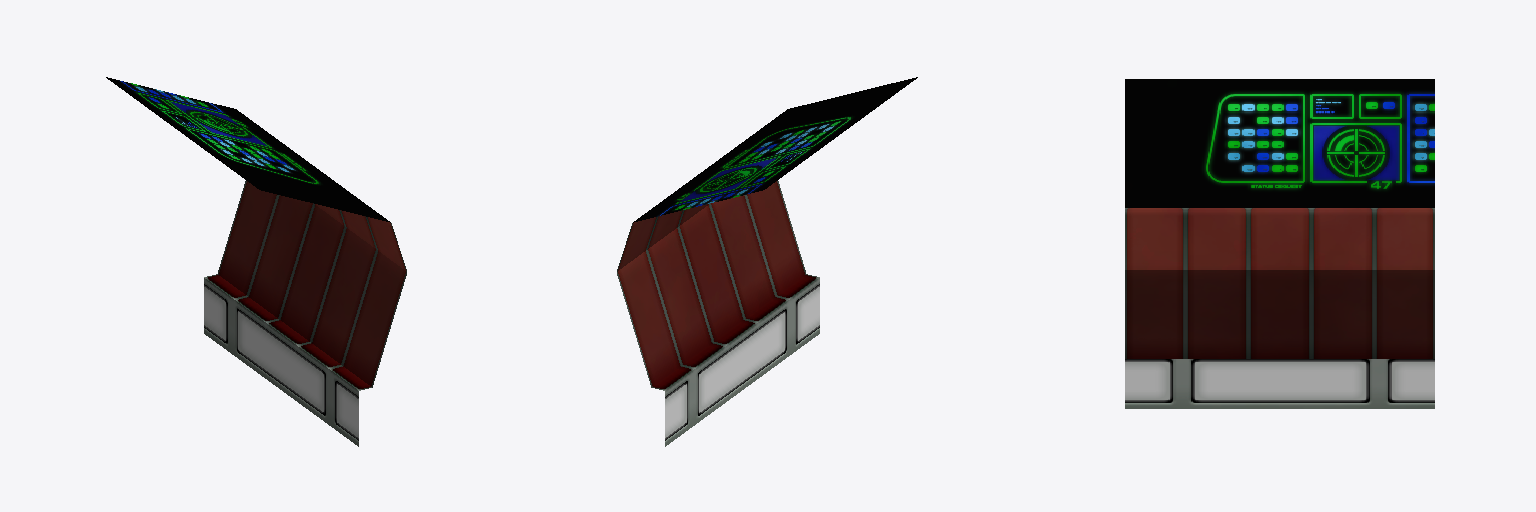
3 views of the same model, side by side, from view 1: azimuth 30°, elevation 25°; view 2: azimuth 150°, elevation 25°; view 3: azimuth 270°, elevation 25° (orthographic).
Visible parts, largest first — view 1: console_btm_Cube; view 2: console_btm_Cube; view 3: console_btm_Cube.
Part boxes in pixels (x1,y1,x2,y2): console_btm_Cube: (106, 77, 406, 446); console_btm_Cube: (617, 77, 917, 446); console_btm_Cube: (1125, 79, 1434, 408).
Size of the model in its own units: 0.55 by 1 by 1.
2 materials, 2 textured.